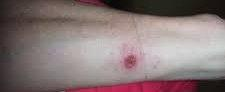Spider: (121, 46, 141, 72)
